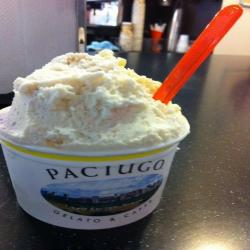icecream: (2, 49, 204, 170)
